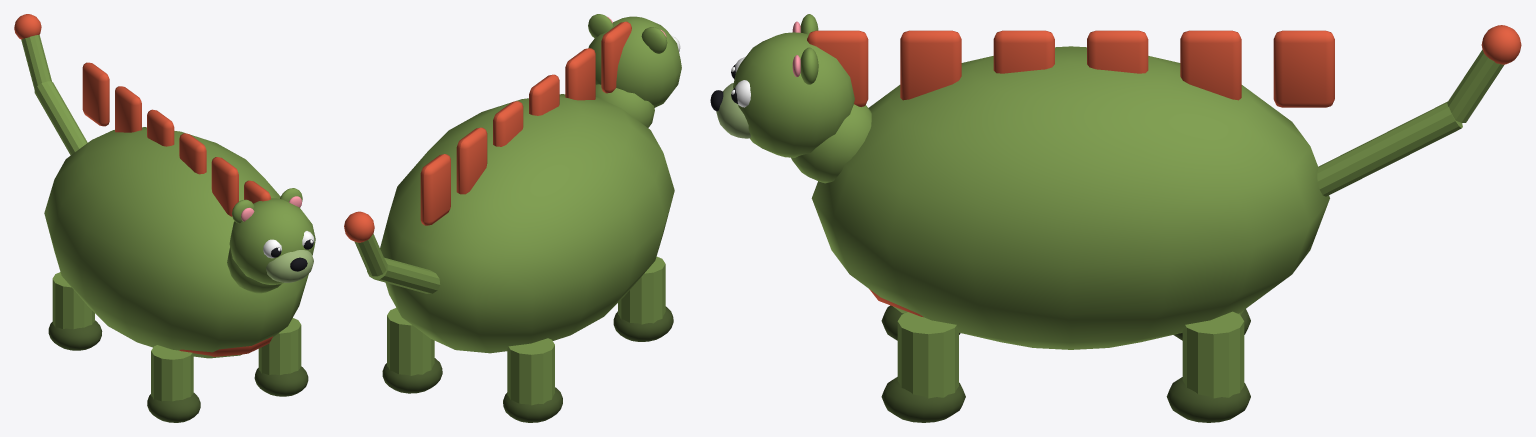
The picture shows the model from 3 angles, left to right: view 1: azimuth 30°, elevation 25°; view 2: azimuth 150°, elevation 25°; view 3: azimuth 270°, elevation 25°; orthographic projection. The views are drawn at different scales.
Parts seen in each view (by area): view 1: Stegosaurus; view 2: Stegosaurus; view 3: Stegosaurus.
Boxes of the visible parts, box(x1,y1,x2,y2) form: Stegosaurus: box(14, 14, 315, 422); Stegosaurus: box(344, 14, 681, 422); Stegosaurus: box(710, 14, 1521, 422).
Bounding box in the file's own units: 2.12 × 2.53 × 5.28.
Materials: 1 (1 with a texture image).
